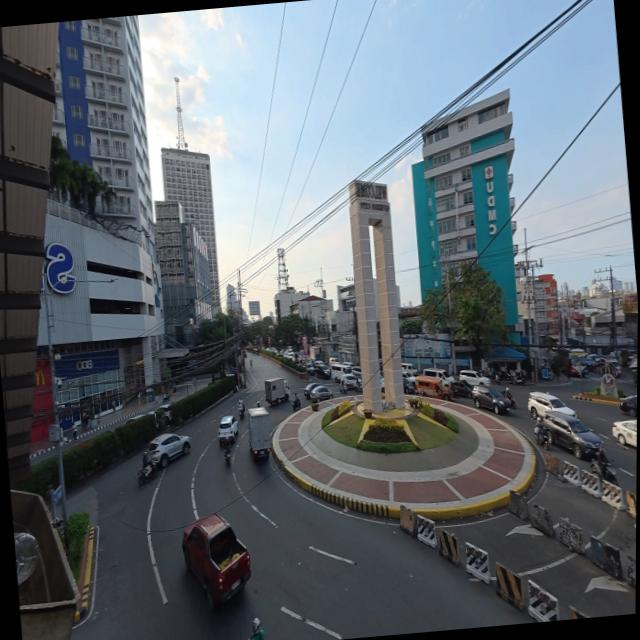Jeepneys: (414, 376, 452, 400)
car: (541, 412, 603, 459), (147, 434, 189, 468), (527, 392, 575, 419), (472, 386, 510, 413), (612, 419, 636, 446), (218, 415, 237, 445), (458, 370, 490, 386), (422, 368, 453, 382), (450, 380, 472, 399), (309, 385, 331, 402), (619, 395, 636, 417), (303, 382, 321, 398), (314, 362, 330, 378), (604, 359, 619, 376), (340, 374, 356, 389), (402, 377, 415, 394), (124, 414, 144, 425), (158, 404, 170, 420), (401, 370, 414, 383), (401, 363, 414, 372), (305, 363, 314, 374), (351, 366, 360, 377), (379, 375, 384, 391), (328, 358, 336, 365)
motorcycle: (590, 459, 617, 485), (136, 462, 156, 485), (534, 423, 548, 450), (505, 391, 516, 409), (511, 373, 524, 385), (223, 443, 230, 465), (237, 401, 244, 420), (292, 398, 300, 412), (162, 392, 169, 402), (633, 373, 636, 386), (249, 360, 250, 370)
trucks: (181, 514, 250, 608)
vans: (247, 407, 271, 460), (264, 378, 289, 405), (458, 370, 490, 386), (422, 368, 453, 382), (329, 363, 350, 381), (401, 363, 414, 372)
